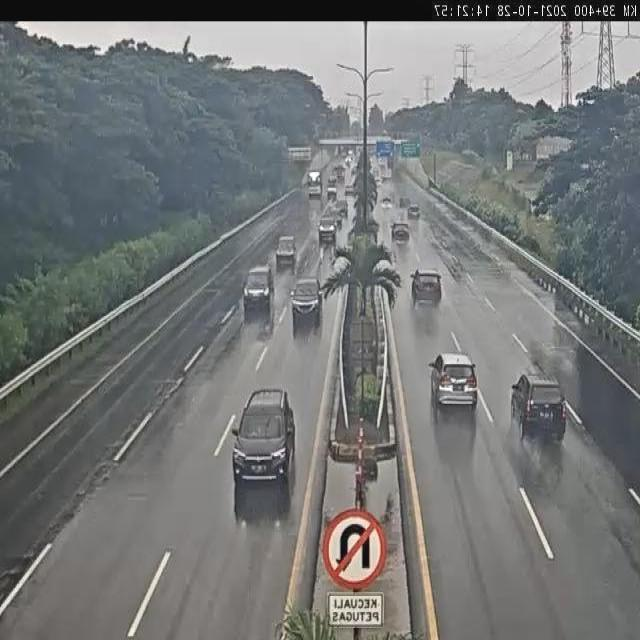Car: (225, 374, 298, 504), (510, 372, 566, 443), (428, 350, 478, 418), (289, 277, 323, 339), (242, 265, 276, 326), (410, 268, 442, 308), (275, 236, 297, 271), (318, 215, 338, 244), (391, 222, 411, 244), (408, 204, 420, 218)
